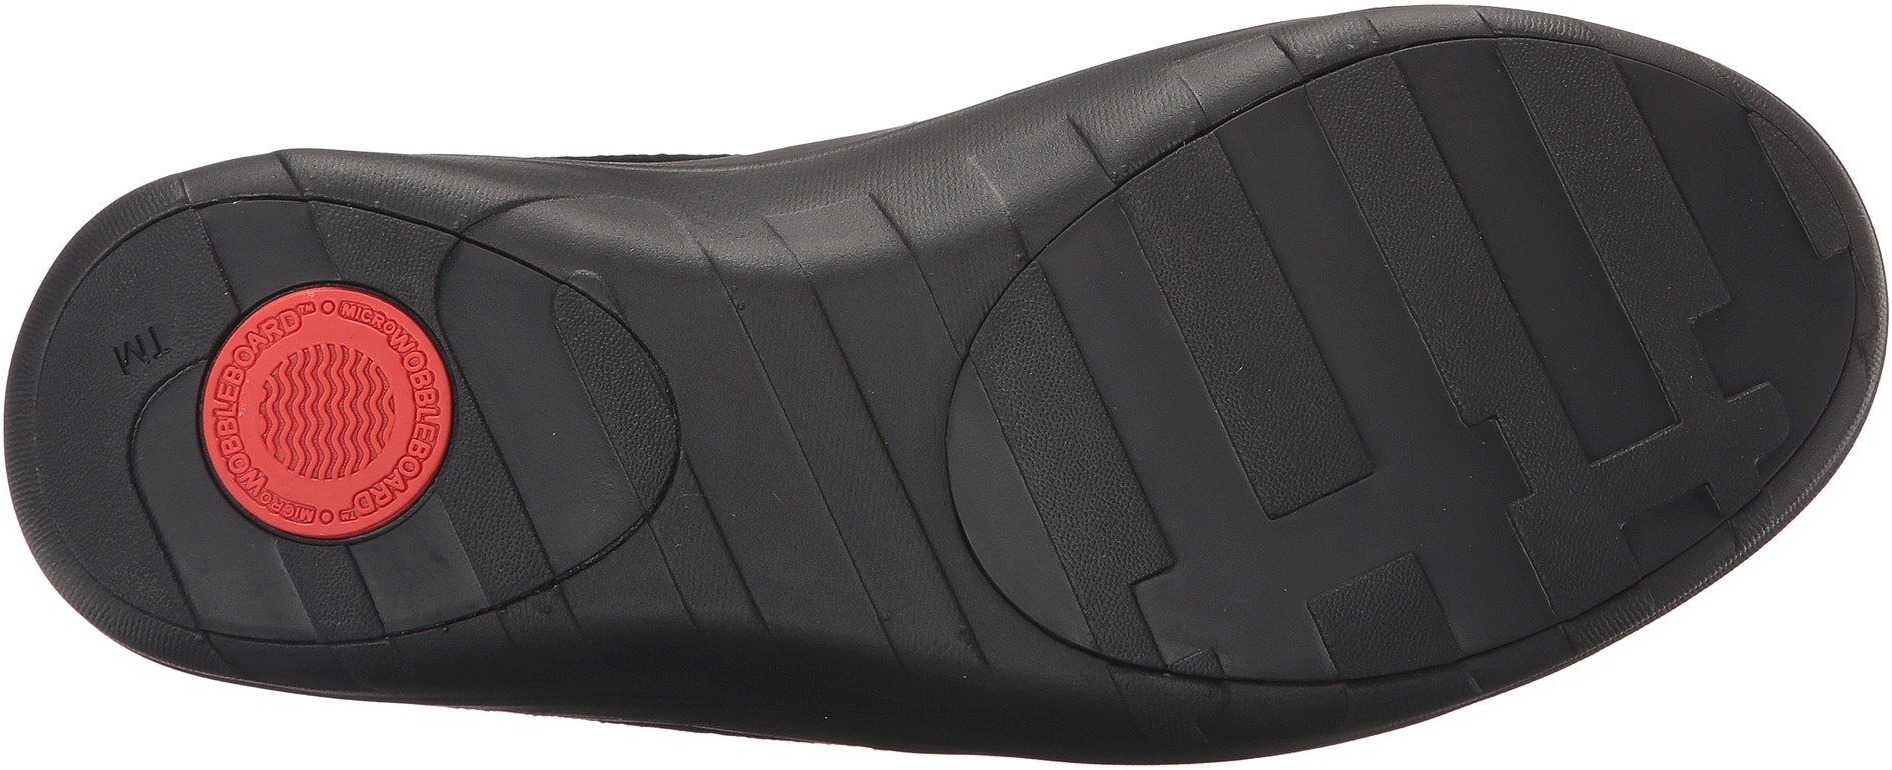chevron: (259, 361, 376, 468)
text: (109, 317, 174, 385)
